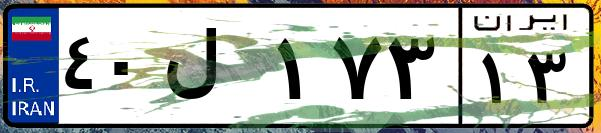0: (110, 28, 158, 98)
1: (270, 28, 330, 110), (475, 38, 525, 113)
3: (385, 28, 445, 110), (525, 38, 570, 115)
4: (57, 26, 110, 100)
7: (330, 28, 385, 110)
ل: (158, 20, 270, 120)
